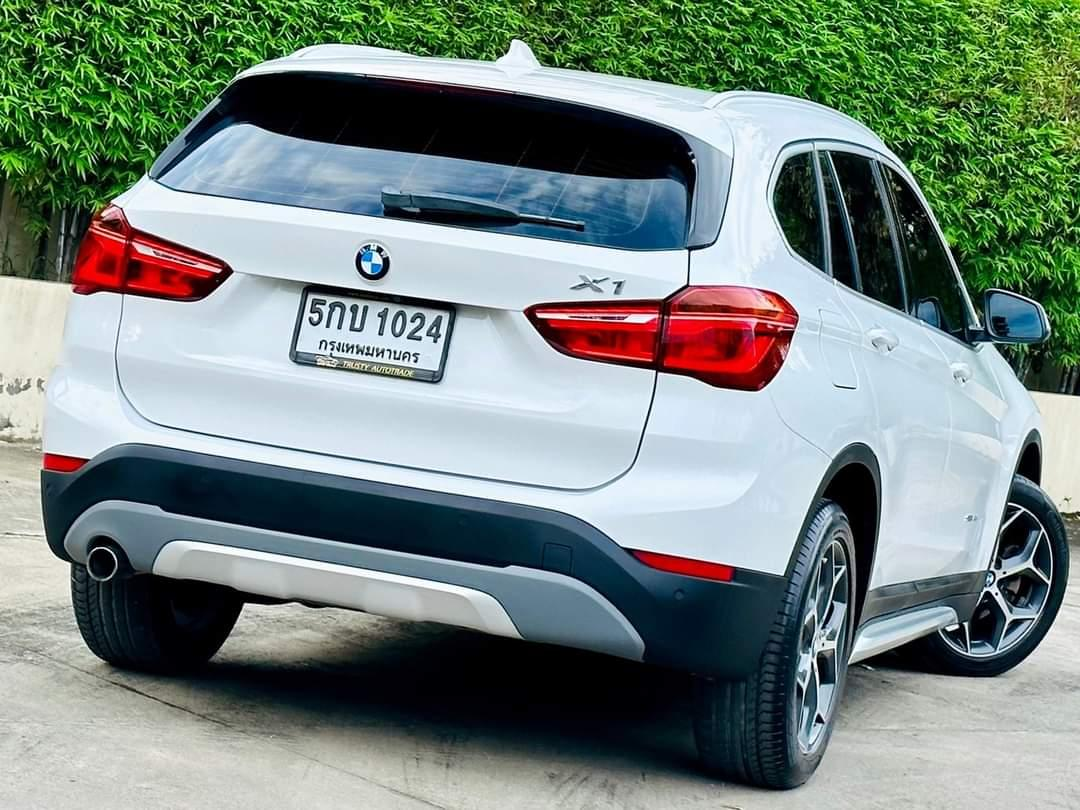license-plate: (288, 277, 461, 387)
